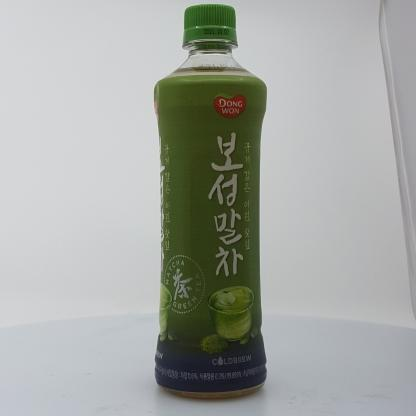------500ML: (154, 4, 267, 400)
